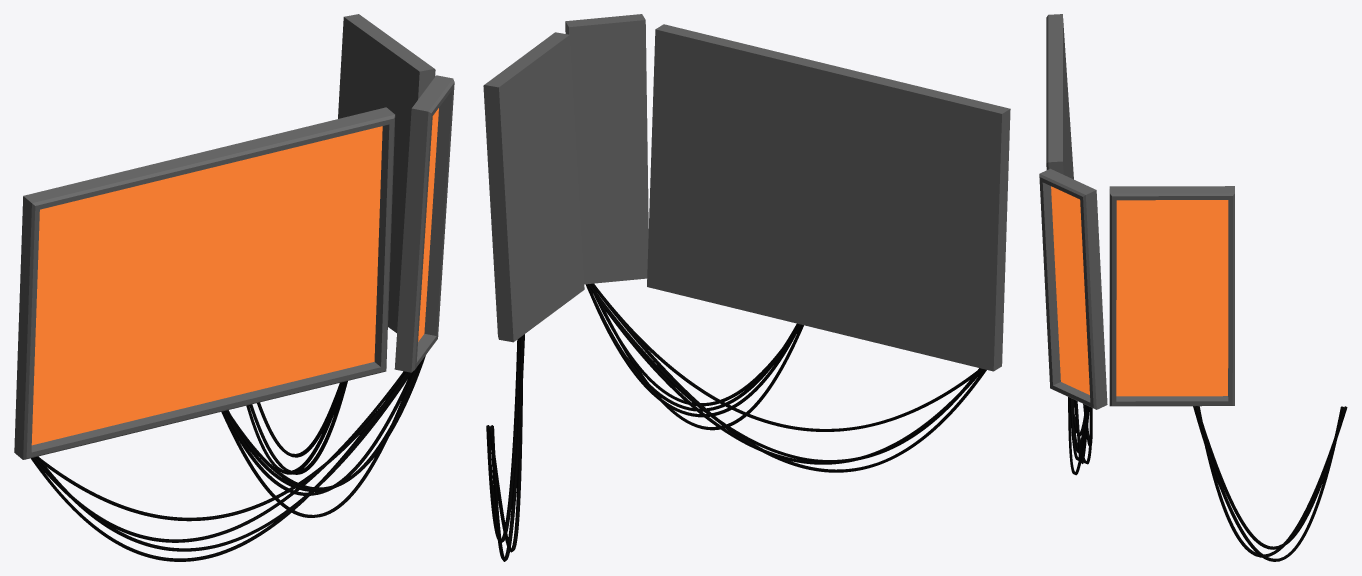
Rendered from MonitorBig.glb.
The picture shows the model from 3 angles, left to right: view 1: azimuth 30°, elevation 25°; view 2: azimuth 150°, elevation 25°; view 3: azimuth 270°, elevation 25°; orthographic projection. The views are drawn at different scales.
Parts seen in each view (by area): view 1: MonitorSmall; view 2: MonitorSmall; view 3: MonitorSmall.
Part boxes in pixels (bbox=[...]): MonitorSmall: bbox=[14, 14, 454, 561]; MonitorSmall: bbox=[483, 14, 1010, 561]; MonitorSmall: bbox=[1039, 14, 1347, 561].
Size of the model in its own units: 4.23 by 4.26 by 3.06.
